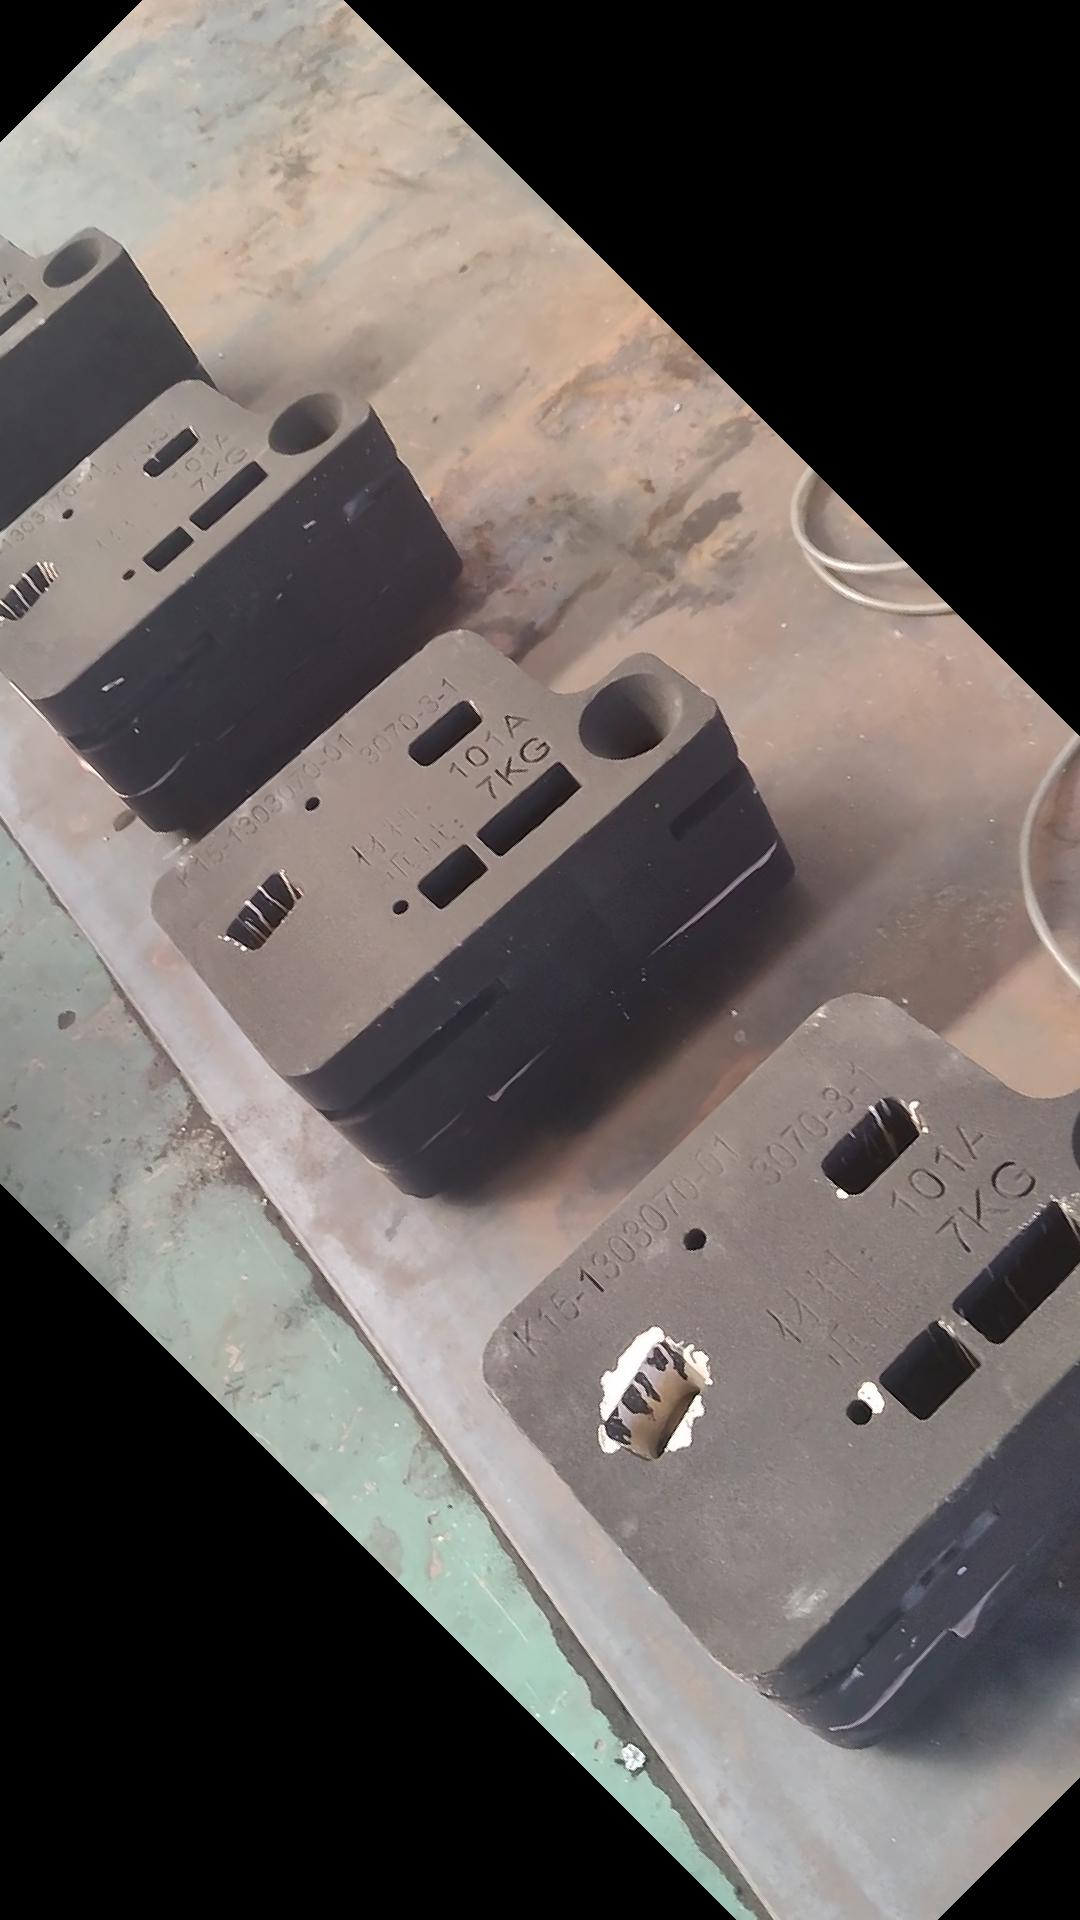pouring hole: (578, 673, 680, 760), (266, 392, 345, 454), (40, 235, 100, 287), (1068, 1104, 1080, 1167)
